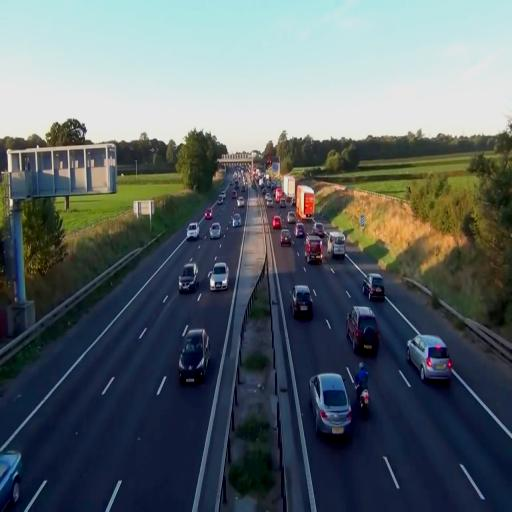vehicle: (308, 372, 354, 439), (406, 334, 453, 384), (178, 327, 210, 385), (346, 304, 380, 354), (0, 449, 22, 512), (349, 314, 380, 355), (291, 284, 314, 321), (296, 183, 315, 220), (208, 260, 230, 290), (178, 260, 198, 292), (304, 234, 324, 264), (366, 275, 385, 302), (208, 222, 222, 239), (187, 222, 199, 240), (231, 212, 244, 227), (280, 231, 292, 246)
